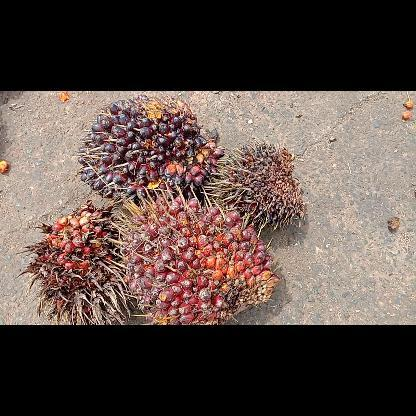Kurang masak: (76, 96, 224, 208)
TBS abnormal: (207, 140, 309, 228)
TBS masak: (114, 195, 282, 323)
Terlalu masak: (13, 198, 134, 324)
